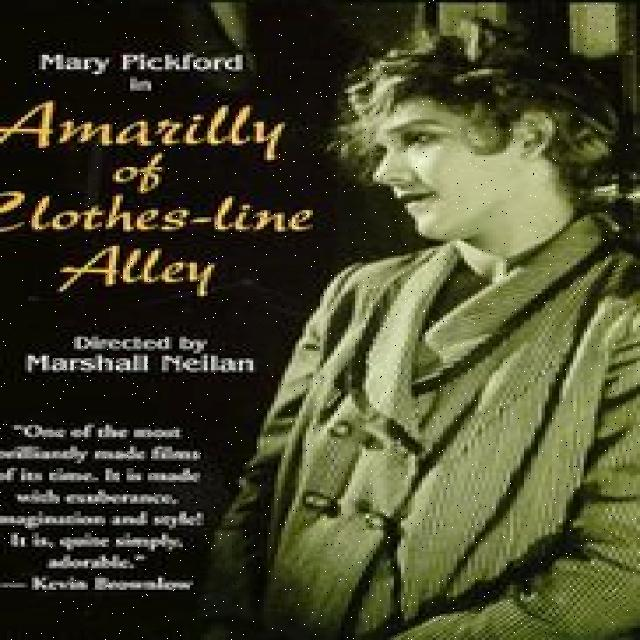movie-judul: (0, 94, 326, 304)
picture: (232, 50, 637, 640)
